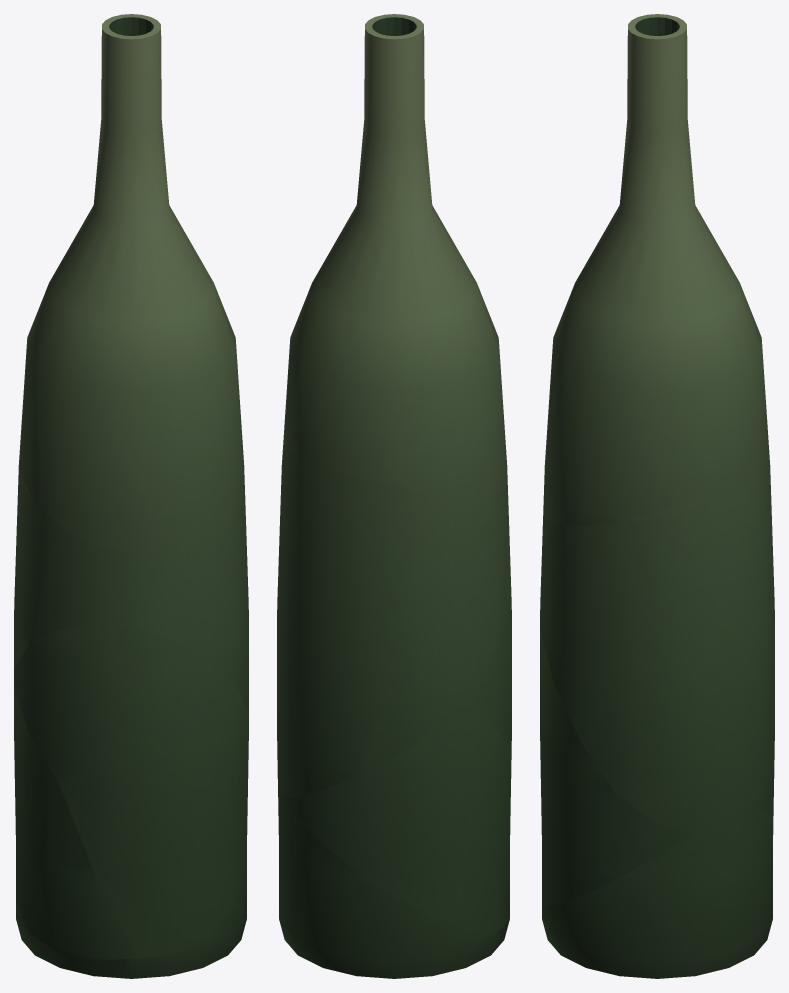
The model's file is M_bottle_fragments.FBX.
3 renders of one model, left to right at view 1: azimuth 30°, elevation 25°; view 2: azimuth 150°, elevation 25°; view 3: azimuth 270°, elevation 25°, orthographic.
Parts seen in each view (by area): view 1: Cylinder007_Part_4, Cylinder007_Part_6, Cylinder007_Part_5, Cylinder007_Part_2, Cylinder007_Part_1, Cylinder007_Part_3; view 2: Cylinder007_Part_4, Cylinder007_Part_5, Cylinder007_Part_1, Cylinder007_Part_3, Cylinder007_Part_6; view 3: Cylinder007_Part_4, Cylinder007_Part_5, Cylinder007_Part_3, Cylinder007_Part_2, Cylinder007_Part_6, Cylinder007_Part_1.
Part boxes in pixels (bbox=[...]): Cylinder007_Part_4: bbox=[19, 14, 244, 553]; Cylinder007_Part_6: bbox=[14, 624, 248, 795]; Cylinder007_Part_5: bbox=[14, 445, 248, 711]; Cylinder007_Part_2: bbox=[60, 756, 248, 955]; Cylinder007_Part_1: bbox=[14, 688, 136, 961]; Cylinder007_Part_3: bbox=[16, 867, 246, 978]; Cylinder007_Part_4: bbox=[283, 14, 507, 498]; Cylinder007_Part_5: bbox=[277, 445, 510, 798]; Cylinder007_Part_1: bbox=[283, 715, 511, 931]; Cylinder007_Part_3: bbox=[278, 793, 508, 978]; Cylinder007_Part_6: bbox=[460, 577, 511, 747]; Cylinder007_Part_4: bbox=[543, 14, 767, 526]; Cylinder007_Part_5: bbox=[540, 430, 774, 836]; Cylinder007_Part_3: bbox=[542, 811, 773, 978]; Cylinder007_Part_2: bbox=[540, 756, 689, 905]; Cylinder007_Part_6: bbox=[540, 587, 615, 793]; Cylinder007_Part_1: bbox=[743, 763, 774, 815].
Bounding box in the file's own units: 10.87 × 10.7 × 45.85.
